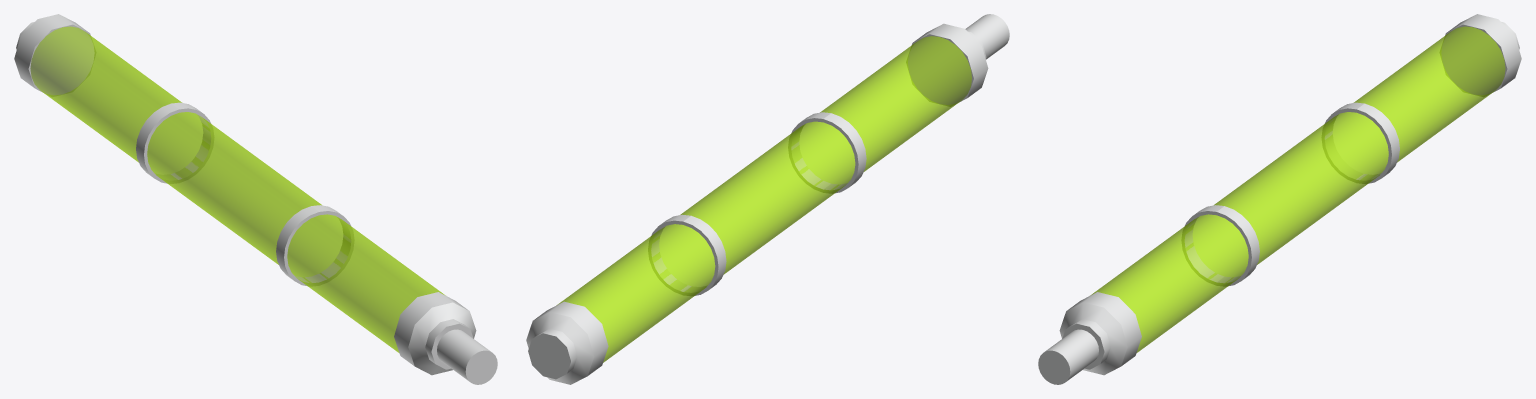
The model's file is pbrPipe2.fbx.
3 renders of one model, left to right at view 1: azimuth 30°, elevation 25°; view 2: azimuth 150°, elevation 25°; view 3: azimuth 330°, elevation 25°, orthographic.
Visible parts, largest first — view 1: zaolei-5_mesh; view 2: zaolei-5_mesh; view 3: zaolei-5_mesh.
Part boxes in pixels (<box>): zaolei-5_mesh: <box>14,14,497,384</box>; zaolei-5_mesh: <box>526,14,1009,384</box>; zaolei-5_mesh: <box>1038,14,1521,384</box>.
Bounding box in the file's own units: 11 × 11 × 120.
